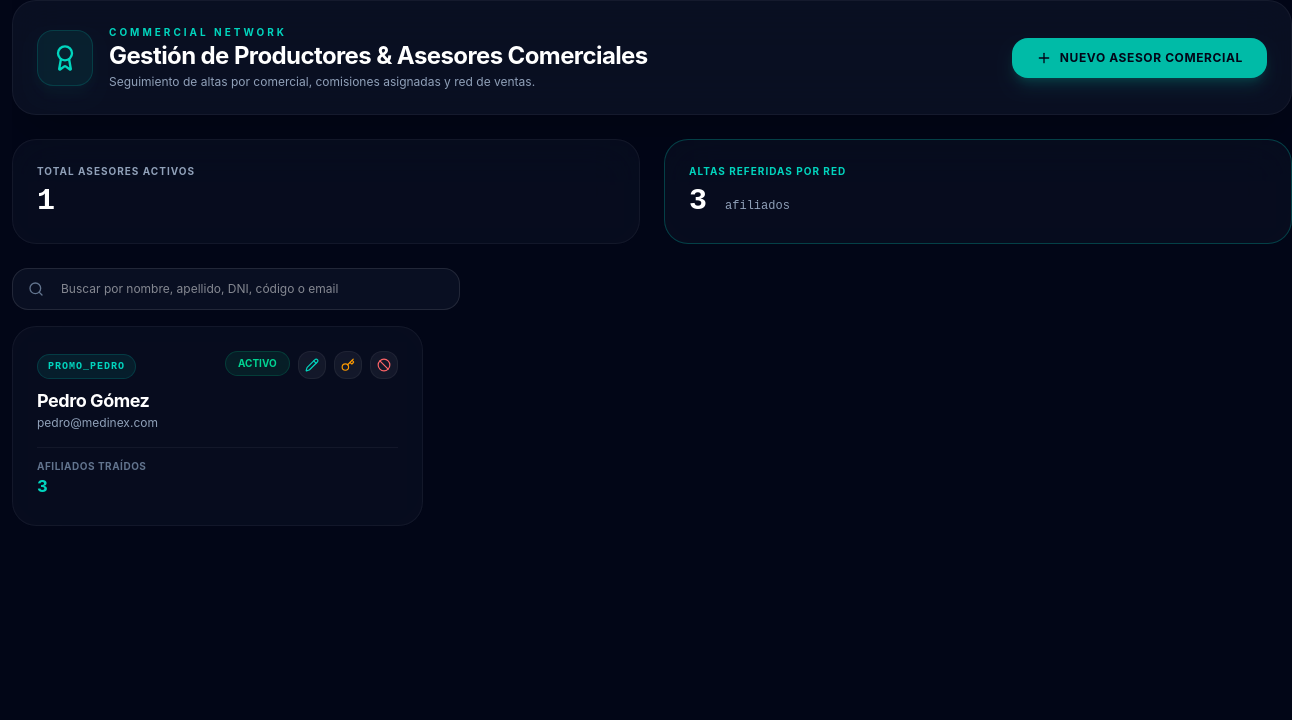
Test: ProducersAdmin › shows no results (no error) when the search returns an empty array
The width and height of the screenshot is (1292, 720).
Expected: the heading "Pedro Gómez" is shown, x1=37 y1=387 x2=158 y2=415
Type "zz" into the field with placeholder "Buscar por nombre, apellido, DNI, código o email" at (236, 289), box x1=12 y1=268 x2=460 y2=310
Wait 300 ms
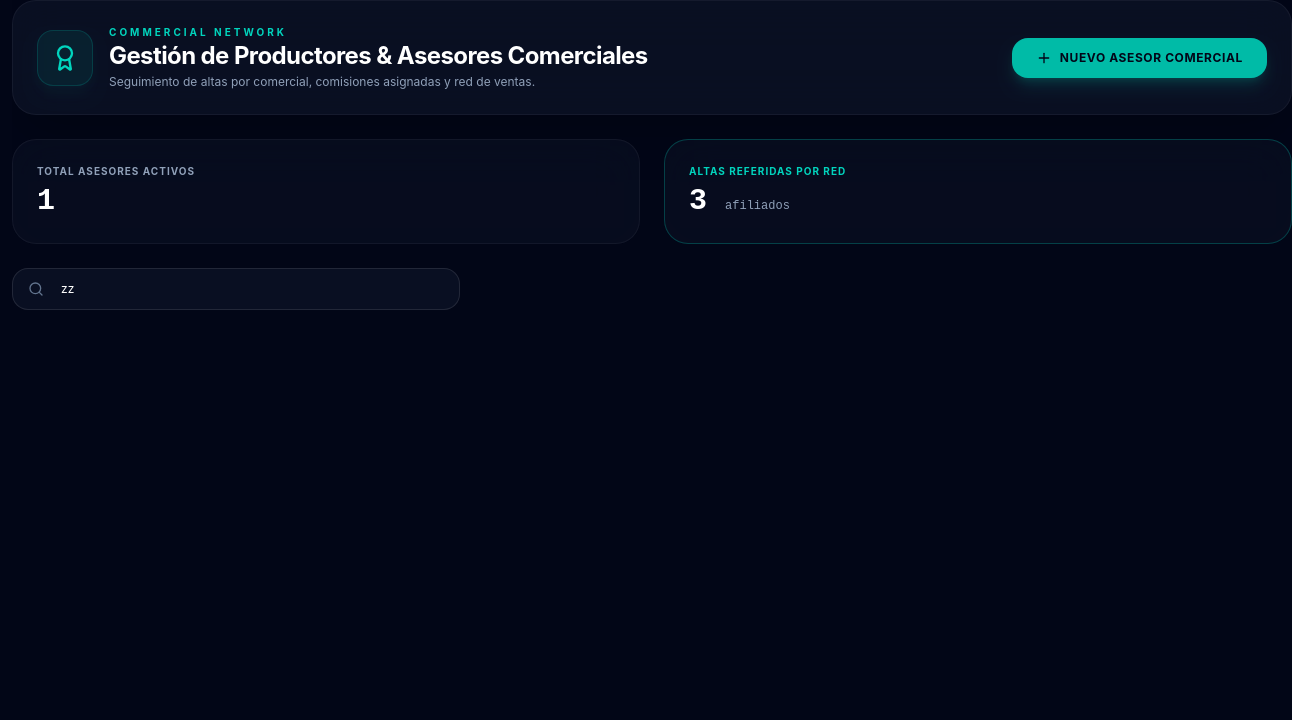
Expected: the heading "Pedro Gómez" is gone
